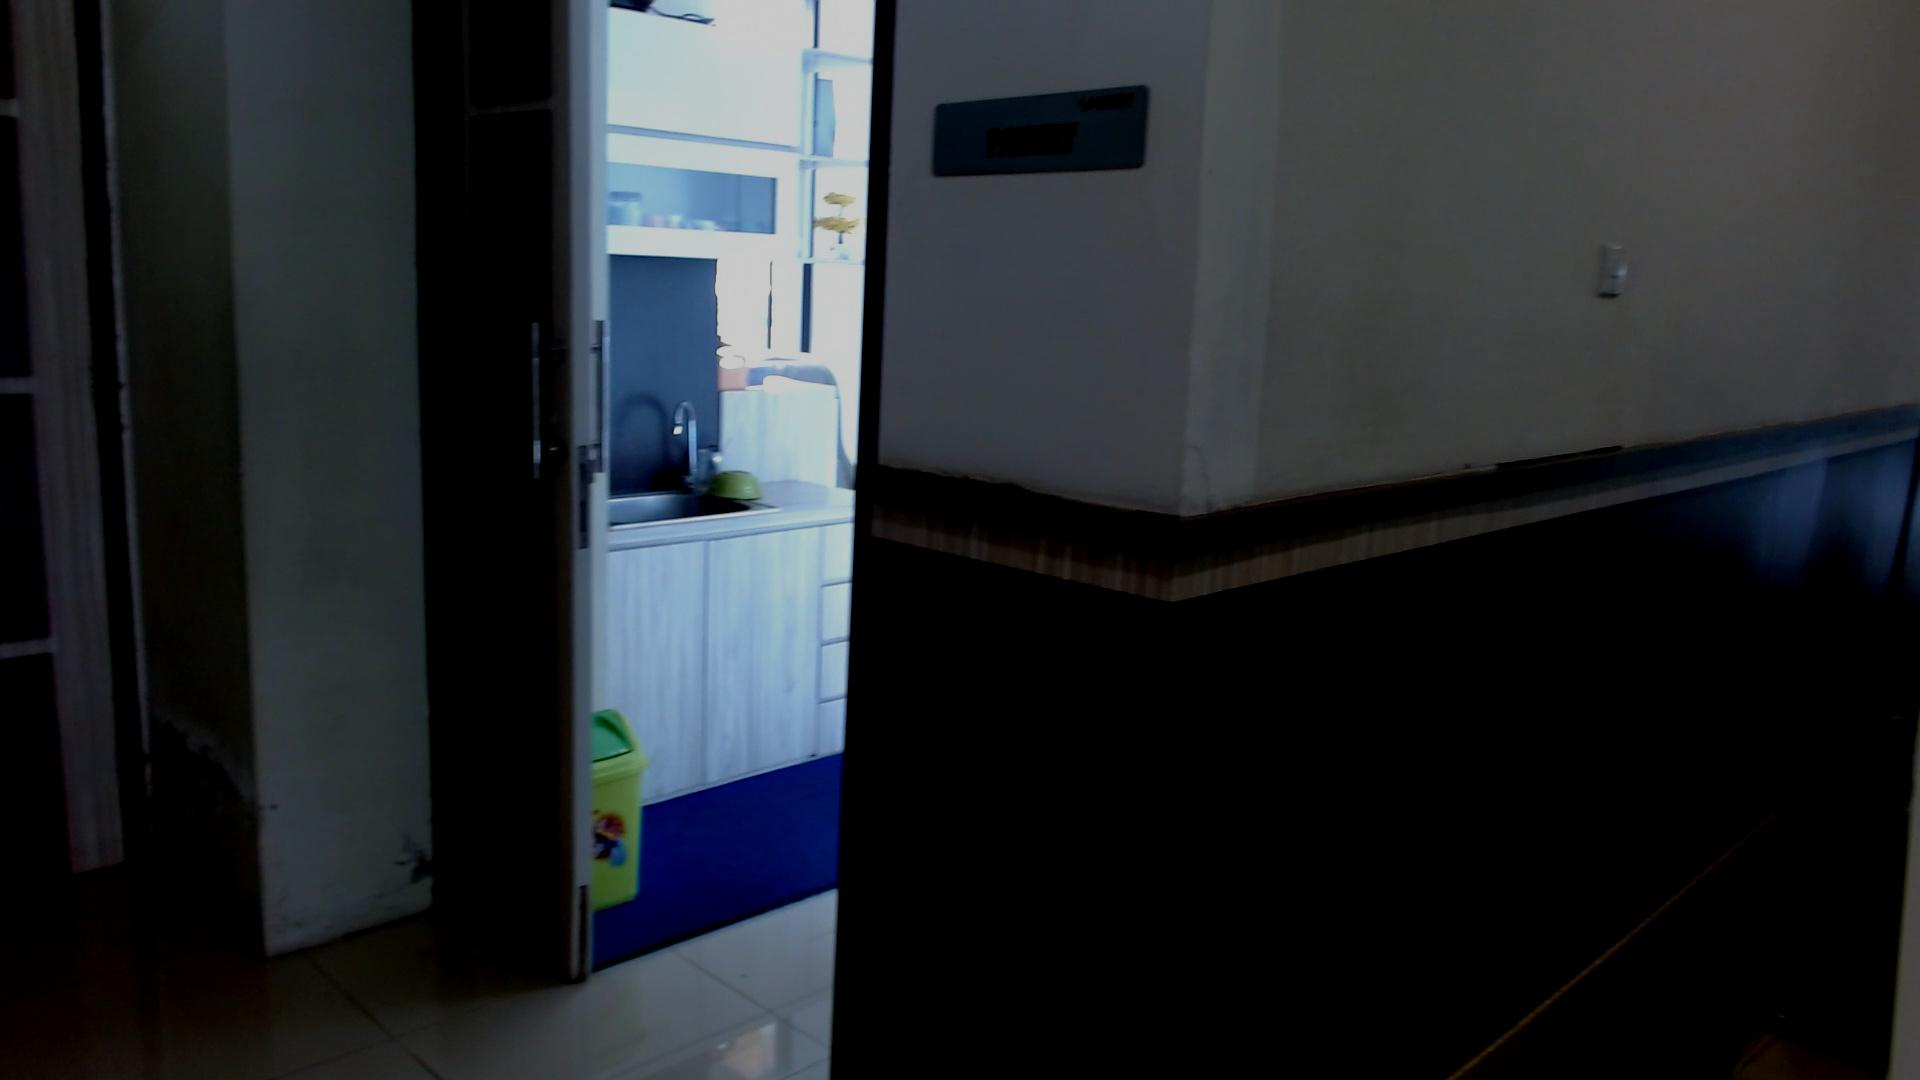plate: (932, 84, 1150, 178)
